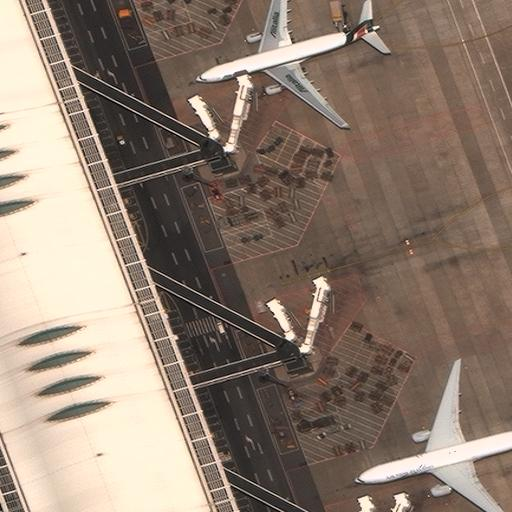Large Civil Transport: (195, 0, 380, 129), (355, 361, 512, 511)
